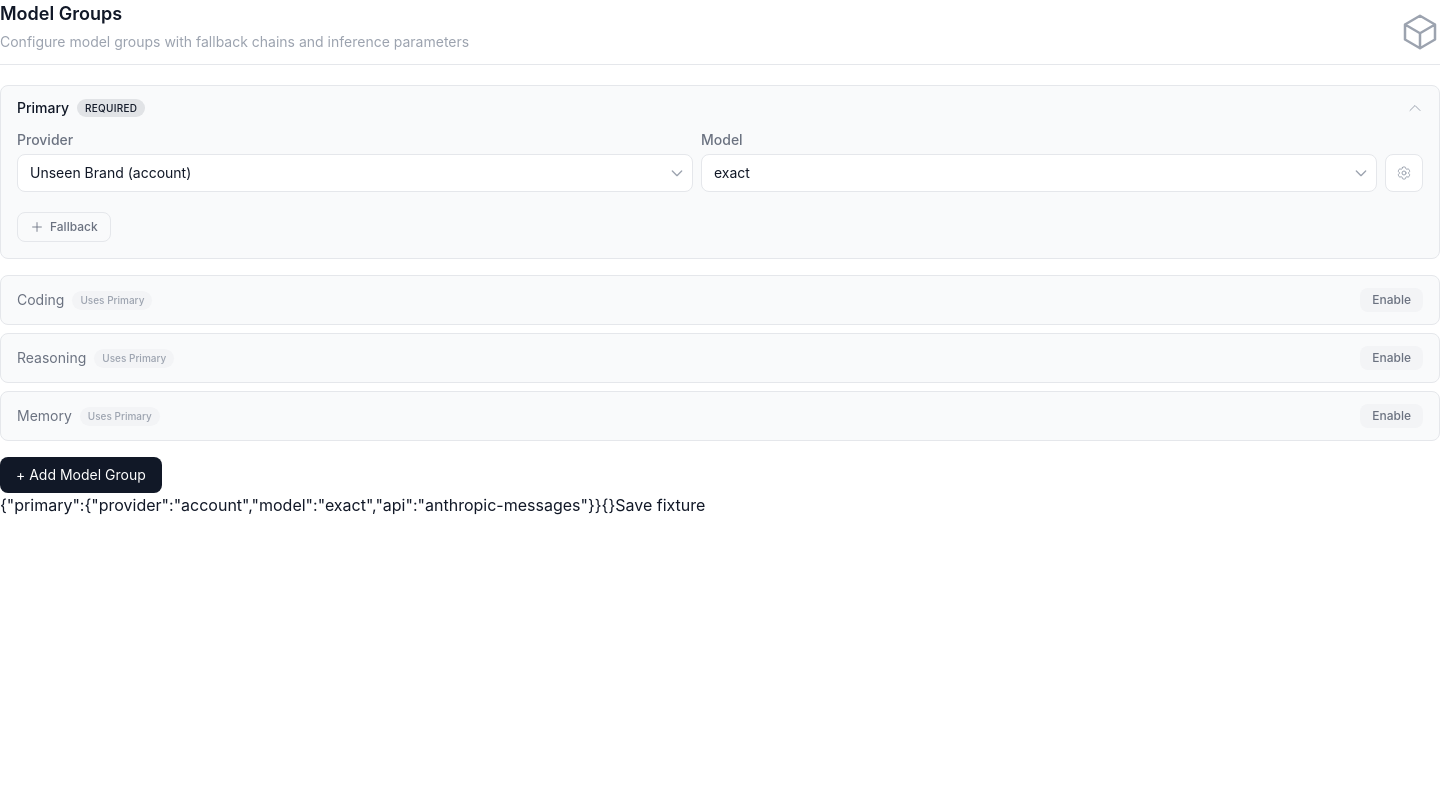
Scenario: uses retry schema constraints and requires explicit reconciliation of an unsupported saved protocol
Click the button named "Primary parameters". click: x=1404, y=173
box: [1385,154,1423,192]
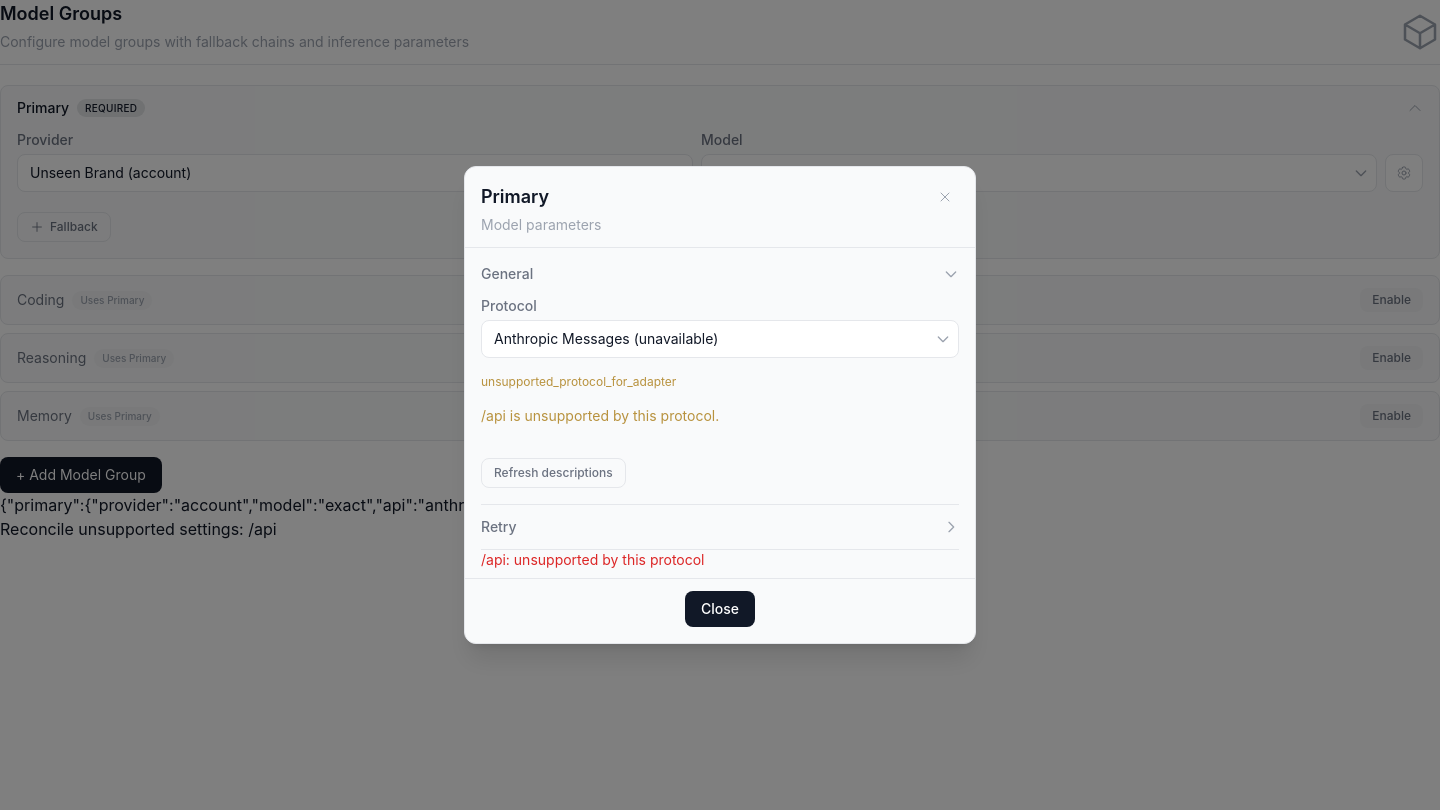
Now the text "/api is unsupported by this protocol." is shown, box [481,407,719,424]
Press ArrowDown in the dropdown labelled "Protocol", box [481,320,959,358]
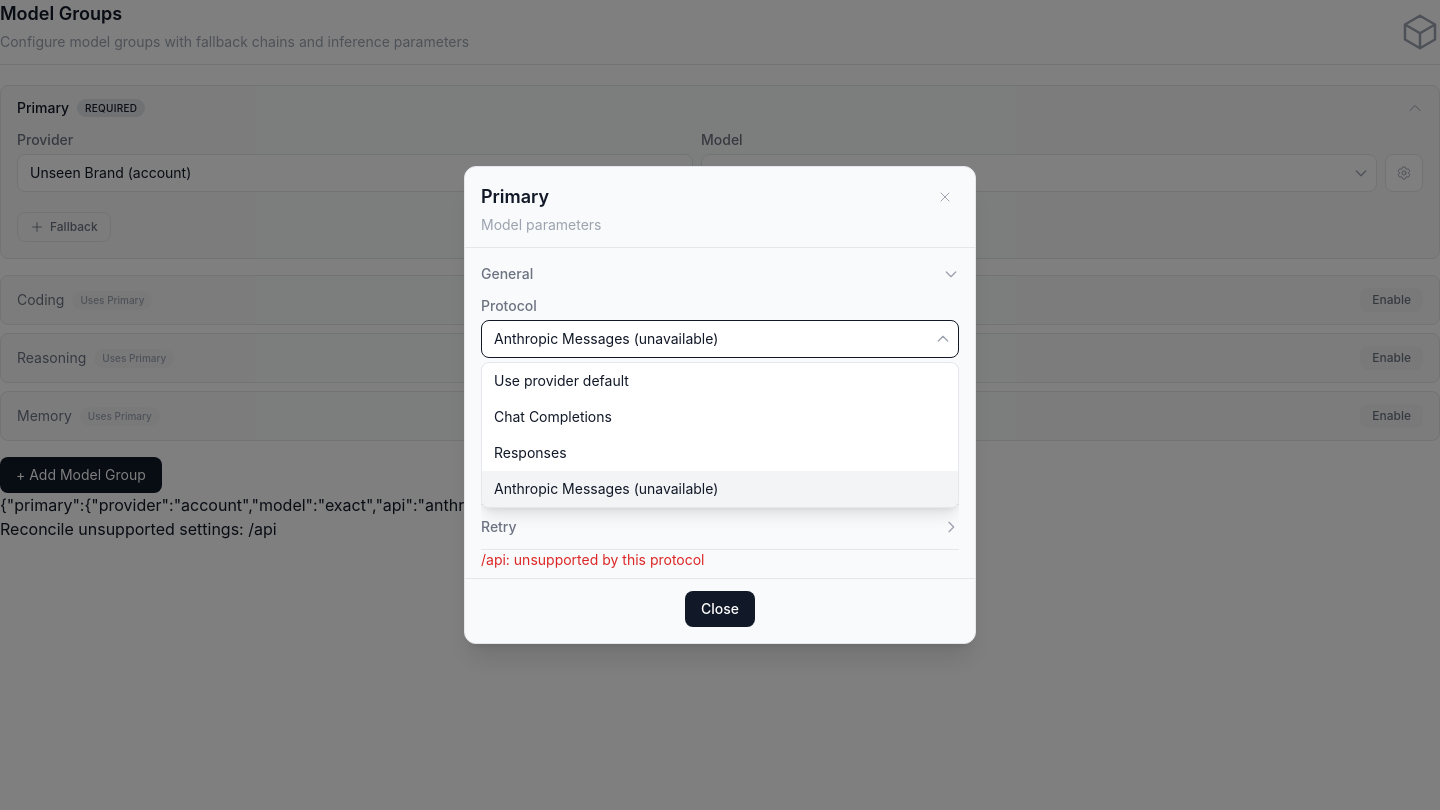
Click the option "Responses". click: x=530, y=452
box: [494,444,566,461]
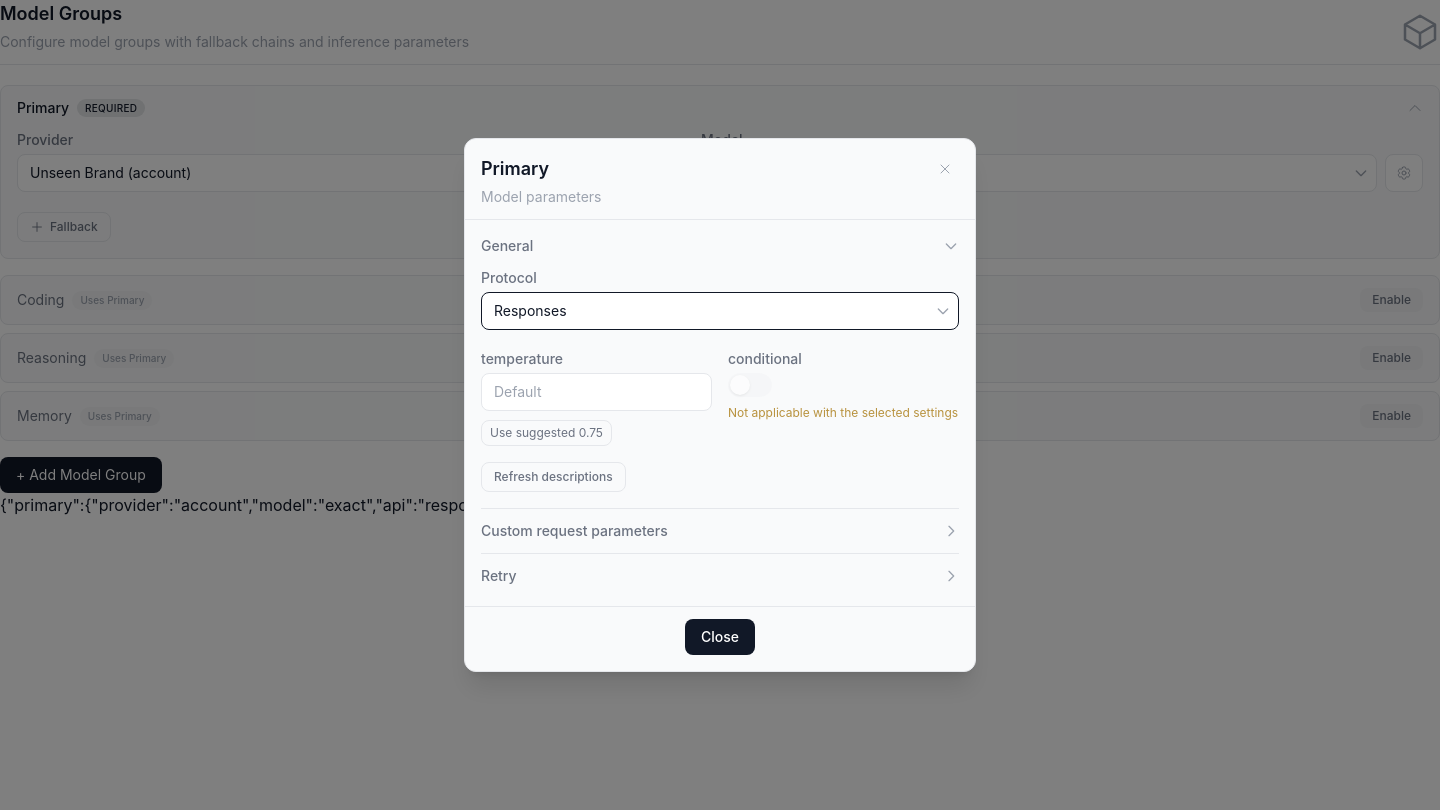
Click the button "Retry". click: x=499, y=576
box: [481,554,959,598]
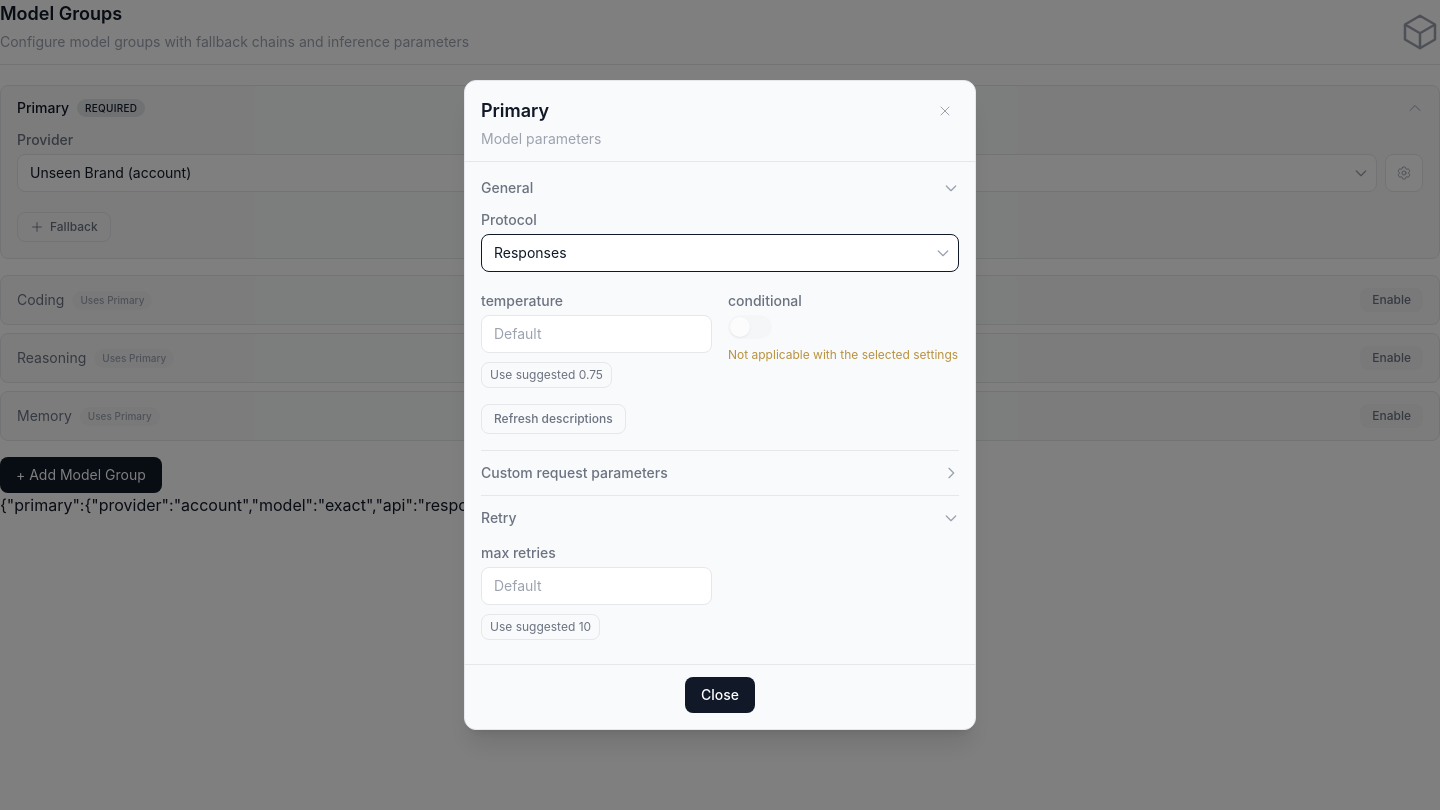
Type "-1" into the number field labelled "max retries". click: x=596, y=586
box: [481,567,712,605]
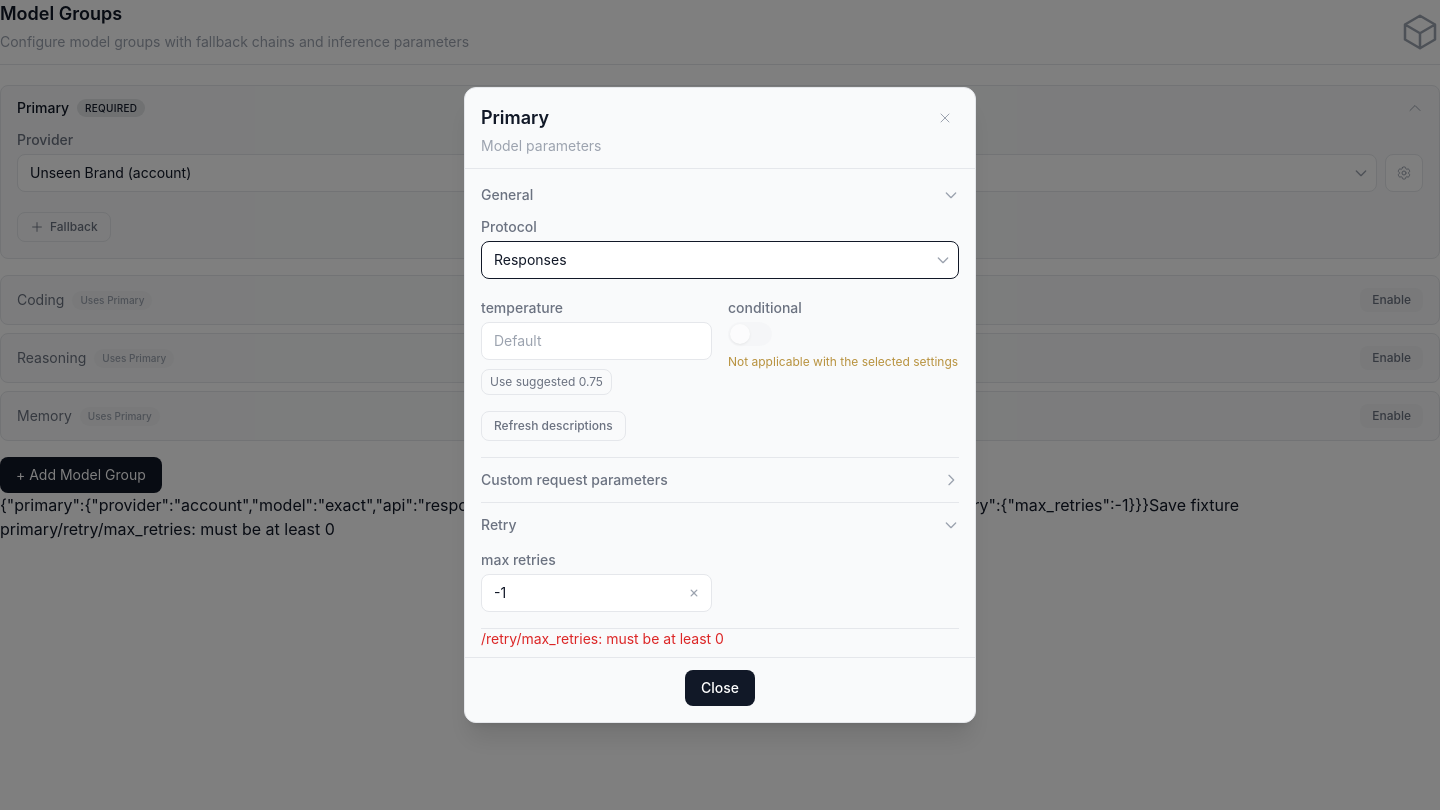
Now the button "Save fixture" is disabled, box [1149,493,1239,517]
Replace the text in the number field labelled "max retries" with "0". click: x=596, y=593
box: [481,574,712,612]
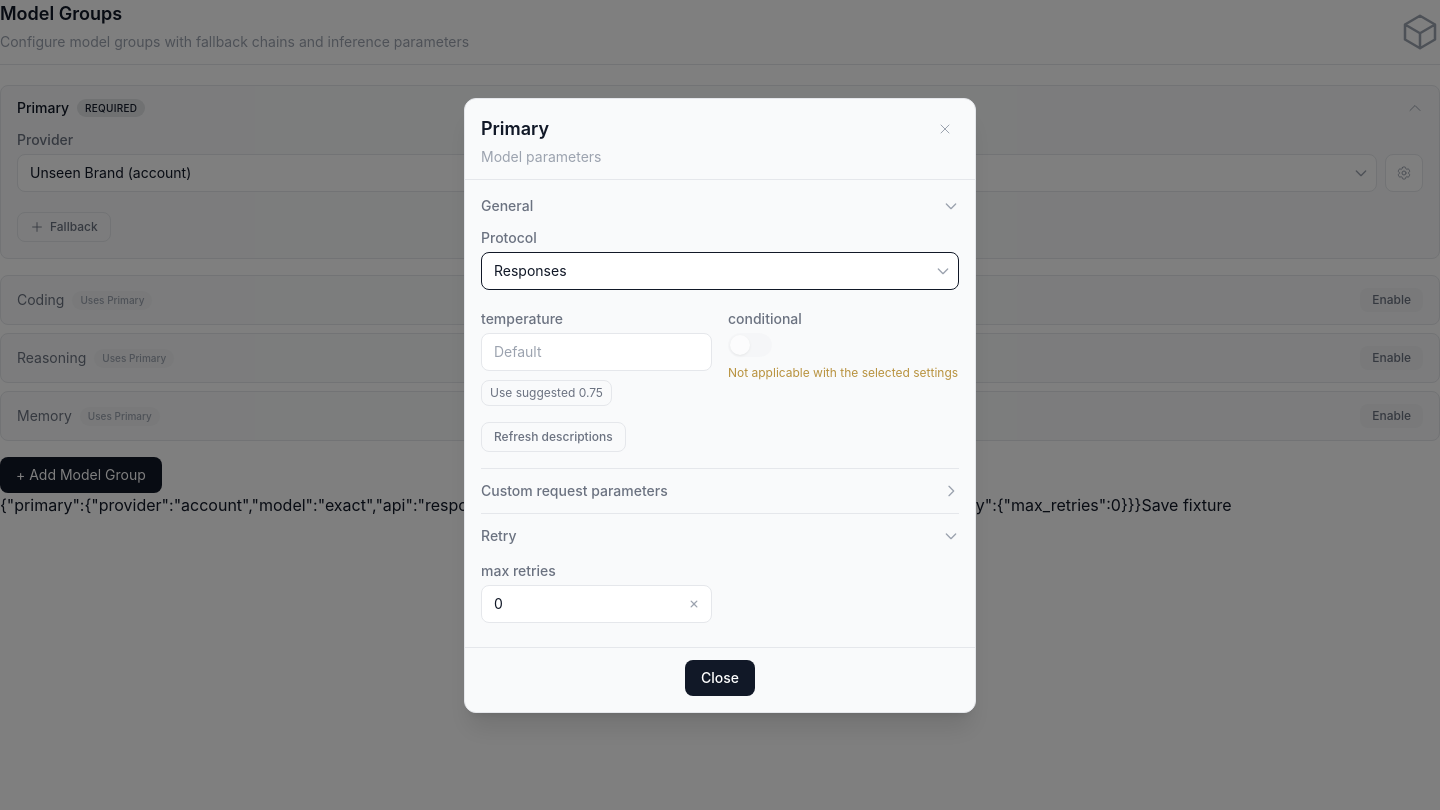
Now the button "Save fixture" is enabled, box [1141,493,1232,517]
